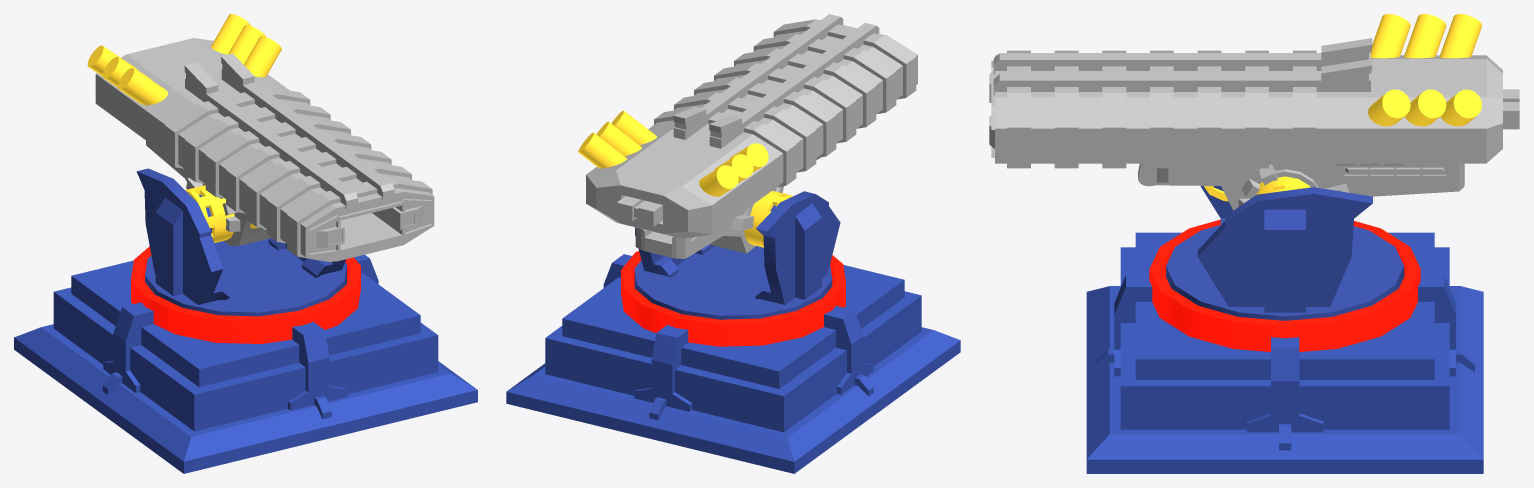
File: canon 1.fbx
3 renders of one model, left to right at view 1: azimuth 30°, elevation 25°; view 2: azimuth 150°, elevation 25°; view 3: azimuth 270°, elevation 25°, orthographic. The views are drawn at different scales.
Visible parts, largest first — view 1: Base, Barrel, Mount, Ring, Accessorites; view 2: Base, Barrel, Mount, Ring, Accessorites; view 3: Base, Barrel, Mount, Ring, Accessorites.
Boxes of the visible parts, x1,y1,x2,y2 form: Base: [14, 254, 477, 473]; Barrel: [95, 38, 434, 262]; Mount: [136, 168, 346, 316]; Ring: [131, 246, 360, 343]; Accessorites: [87, 14, 281, 242]; Base: [506, 254, 960, 473]; Barrel: [586, 14, 917, 258]; Mount: [634, 191, 840, 319]; Ring: [621, 251, 845, 346]; Accessorites: [578, 110, 793, 247]; Base: [1086, 232, 1483, 473]; Barrel: [989, 38, 1519, 210]; Mount: [1166, 185, 1404, 320]; Ring: [1149, 219, 1420, 351]; Accessorites: [1204, 14, 1481, 201].
Bounding box in the file's own units: 3.33 × 3.13 × 4.45.
